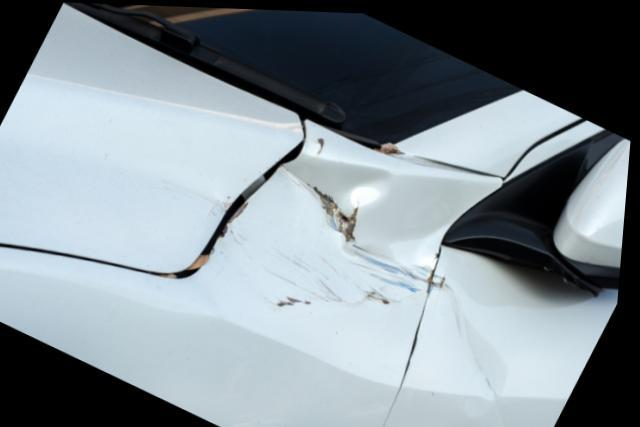dent: (238, 152, 439, 300), (452, 291, 511, 414)
